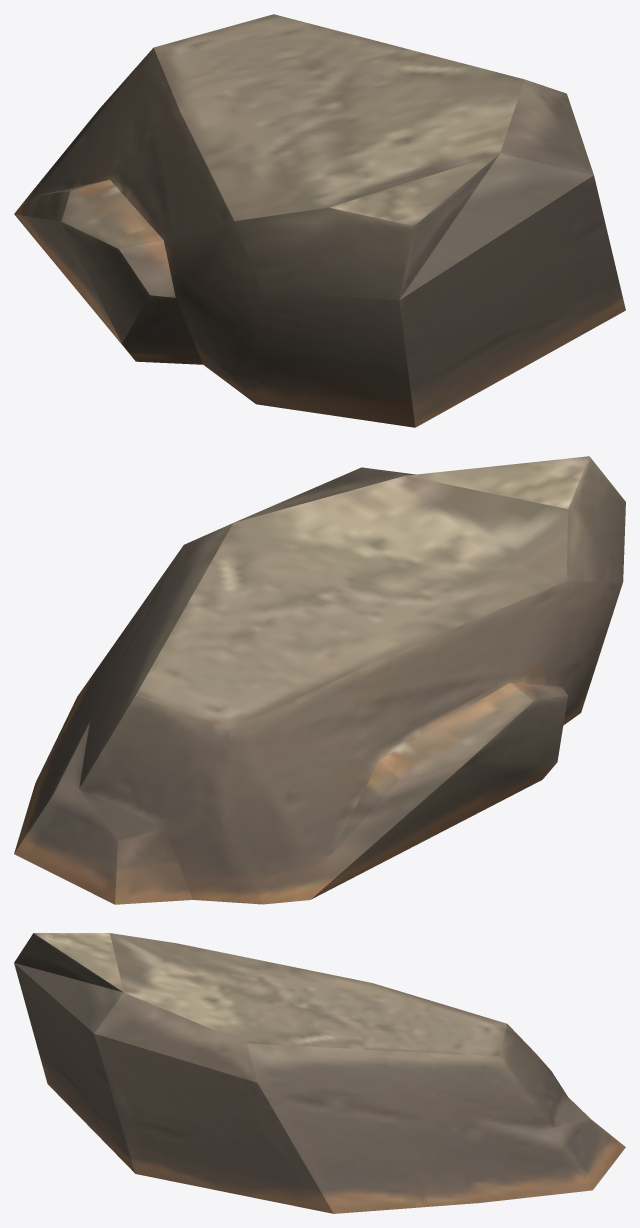
Rendered from pref_sm_4v4pointbake_WSJ_CSD_X02_lv2.fbx.
The picture shows the model from 3 angles, top to bottom: view 1: azimuth 30°, elevation 25°; view 2: azimuth 150°, elevation 25°; view 3: azimuth 270°, elevation 25°; orthographic projection. The views are drawn at different scales.
Parts seen in each view (by area): view 1: sm_4v4pointbake_WSJ_CSD_X02b_lv2; view 2: sm_4v4pointbake_WSJ_CSD_X02b_lv2; view 3: sm_4v4pointbake_WSJ_CSD_X02b_lv2.
Boxes of the visible parts, x1,y1,x2,y2 form: sm_4v4pointbake_WSJ_CSD_X02b_lv2: (14, 14, 625, 427); sm_4v4pointbake_WSJ_CSD_X02b_lv2: (14, 456, 625, 904); sm_4v4pointbake_WSJ_CSD_X02b_lv2: (14, 933, 625, 1213).
Bounding box in the file's own units: 1.1 × 0.5039 × 1.64.
